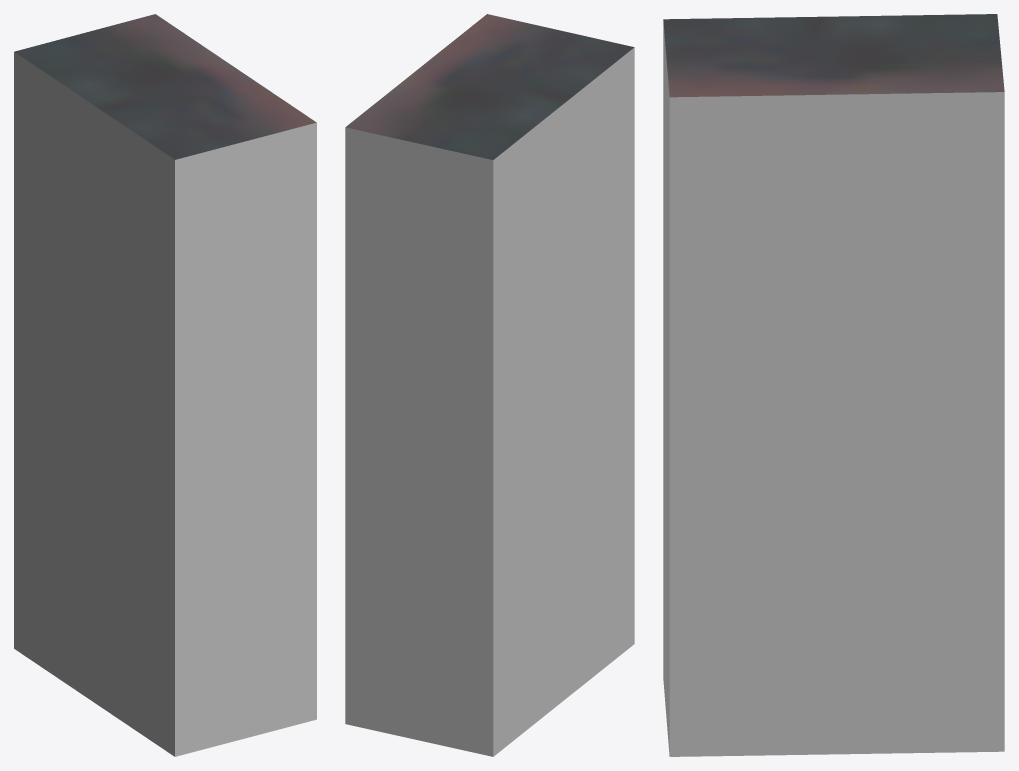
File: DEBW_0010007THYp.gltf
The picture shows the model from 3 angles, left to right: view 1: azimuth 30°, elevation 25°; view 2: azimuth 150°, elevation 25°; view 3: azimuth 270°, elevation 25°; orthographic projection. The views are drawn at different scales.
Parts seen in each view (by area): view 1: Z_UP; view 2: Z_UP; view 3: Z_UP.
Part boxes in pixels (x1,y1,x2,y2): Z_UP: (14, 14, 316, 756); Z_UP: (345, 14, 634, 756); Z_UP: (663, 14, 1004, 756).
Size of the model in its own units: 1.9 by 7.02 by 3.29.
Materials: 2 (1 with a texture image).
